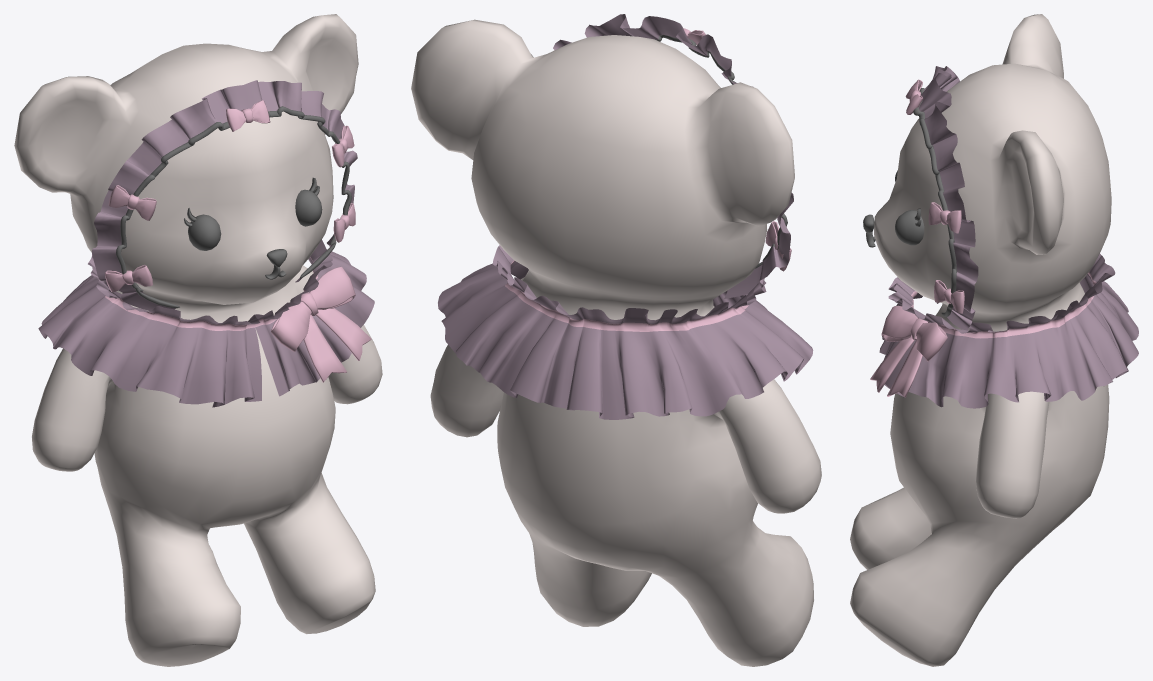
File: xiong_test01.fbx
The picture shows the model from 3 angles, left to right: view 1: azimuth 30°, elevation 25°; view 2: azimuth 150°, elevation 25°; view 3: azimuth 270°, elevation 25°; orthographic projection. The views are drawn at different scales.
Parts seen in each view (by area): view 1: x001, polySurface53, polySurface59, yanjing; view 2: x001, polySurface53; view 3: x001, polySurface53, polySurface59, yanjing.
Part boxes in pixels (left/top/right/bottom): x001: left=14, top=14, right=382, bottom=666; polySurface53: left=38, top=80, right=374, bottom=407; polySurface59: left=105, top=100, right=371, bottom=382; yanjing: left=184, top=177, right=322, bottom=279; x001: left=411, top=19, right=821, bottom=666; polySurface53: left=438, top=14, right=813, bottom=419; x001: left=850, top=14, right=1111, bottom=666; polySurface53: left=879, top=66, right=1138, bottom=408; polySurface59: left=870, top=79, right=964, bottom=397; yanjing: left=863, top=170, right=924, bottom=247.
Size of the model in its own units: 20.13 by 31.76 by 15.09.
